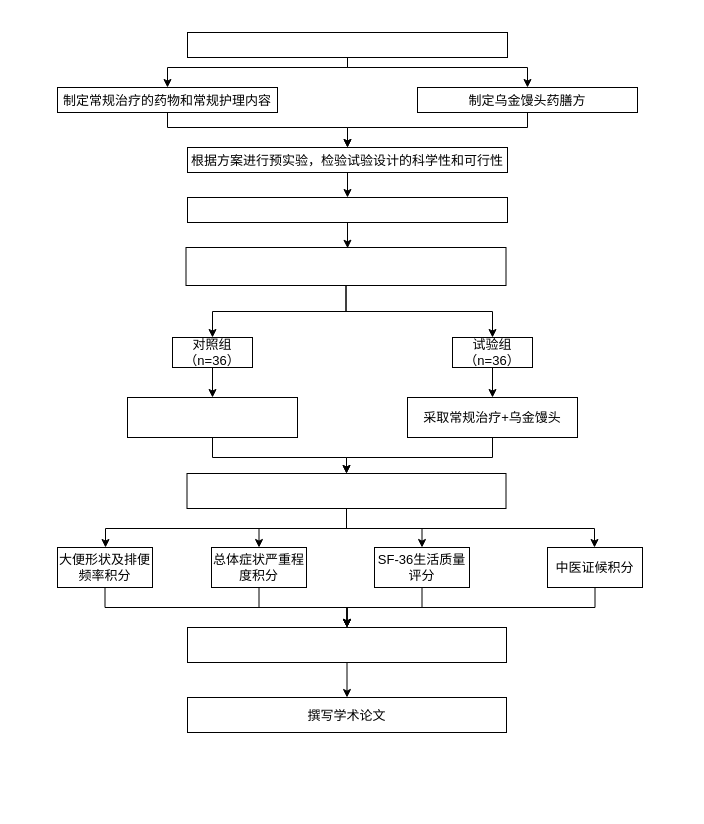
Some shapes in this 704 by 824 pixel diagram are drawn without their labels. The shapes that lost their labels are listed below. From the top down, each one's centre as x and y in pixels, then its label:
At pixel 347 45: "确立课题研究内容，查阅国内外文献".
At pixel 347 209: "进一步修订和完善干预方案".
At pixel 345 266: "正式试验：按纳入标准和排除标准确立研究对象 （n=72）".
At pixel 212 417: "采取常规治疗，包括四神丸 和常规护理".
At pixel 346 490: "干预前，干预4周后分别测量并记录指标".
At pixel 346 644: "整理资料，数据分析".
